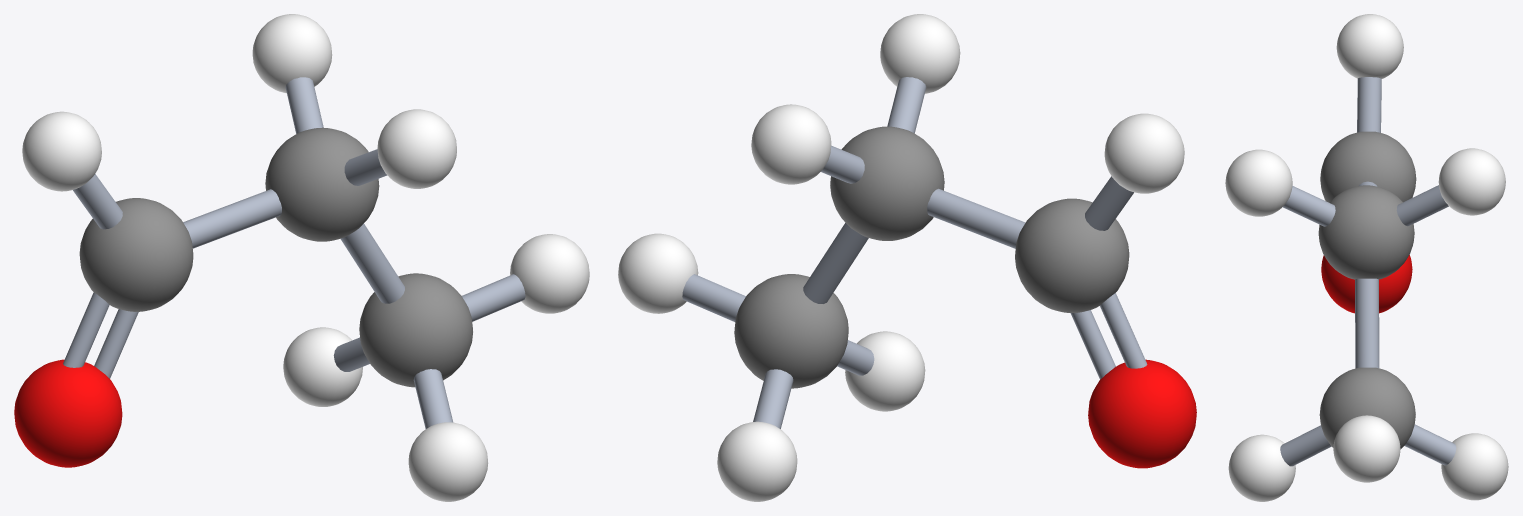
File: propanal.glb
The picture shows the model from 3 angles, left to right: view 1: azimuth 30°, elevation 25°; view 2: azimuth 150°, elevation 25°; view 3: azimuth 270°, elevation 25°; orthographic projection. The views are drawn at different scales.
Visible parts, largest first — view 1: H (×6), C (×3), bond (×10), O; view 2: H (×6), C (×3), bond (×10), O; view 3: H (×6), C (×3), bond (×6), O.
Part boxes in pixels (x1,y1,x2,y2): H (×6): (22,14,589,501); C (×3): (79,127,472,387); bond (×10): (63,77,525,428); O: (14,359,122,467); H (×6): (618,14,1184,501); C (×3): (734,126,1129,388); bond (×10): (682,77,1147,428); O: (1088,359,1196,468); H (×6): (1225,14,1508,501); C (×3): (1318,131,1416,448); bond (×6): (1280,77,1456,466); O: (1321,255,1412,313).
Bounding box in the file's own units: 0.22 × 0.1547 × 0.1137.
